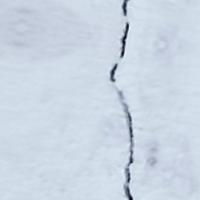crack: (98, 2, 146, 198)
